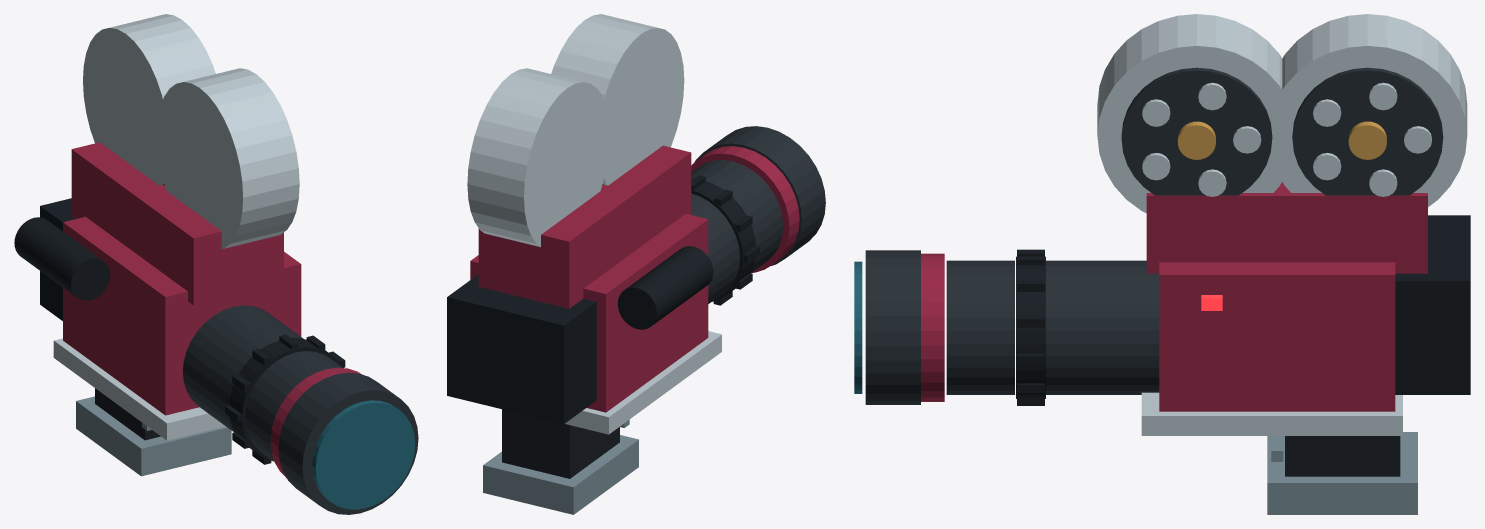
The model's file is heart.glb.
The picture shows the model from 3 angles, left to right: view 1: azimuth 30°, elevation 25°; view 2: azimuth 150°, elevation 25°; view 3: azimuth 270°, elevation 25°; orthographic projection. The views are drawn at different scales.
Parts seen in each view (by area): view 1: heart_baseplate, heart_grip; view 2: heart_baseplate, heart_grip; view 3: heart_baseplate, heart_grip.
Part boxes in pixels (x1,y1,x2,y2): heart_baseplate: (14, 14, 418, 514); heart_grip: (76, 388, 231, 476); heart_baseplate: (447, 14, 825, 434); heart_grip: (483, 409, 638, 514); heart_baseplate: (854, 14, 1470, 435); heart_grip: (1267, 432, 1417, 514).
Size of the model in its own units: 0.254 by 0.5115 by 0.6135.
